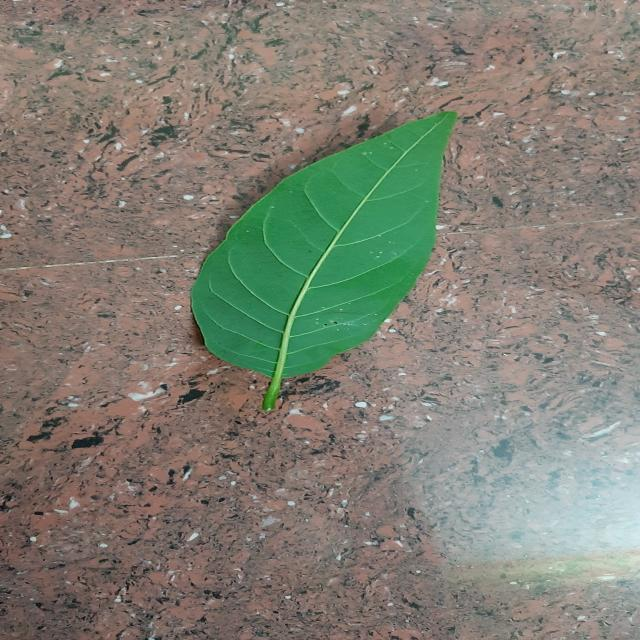seethaphala: (192, 111, 458, 410), (138, 75, 179, 114)
